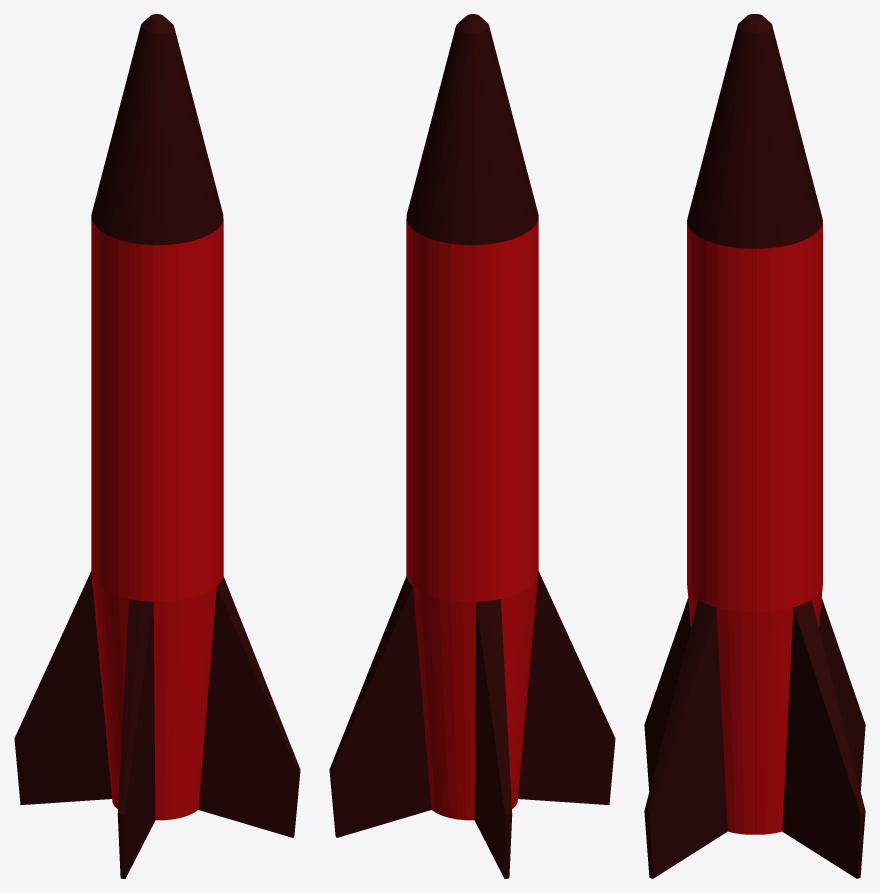
File: Missile.obj
3 views of the same model, side by side, from view 1: azimuth 30°, elevation 25°; view 2: azimuth 150°, elevation 25°; view 3: azimuth 270°, elevation 25° (orthographic).
Parts seen in each view (by area): view 1: Cube; view 2: Cube; view 3: Cube.
Boxes of the visible parts, left/top/right/bottom form: Cube: left=14, top=14, right=300, bottom=878; Cube: left=329, top=14, right=615, bottom=878; Cube: left=644, top=14, right=865, bottom=878.
Bounding box in the file's own units: 0.9112 × 3.83 × 0.9371.
